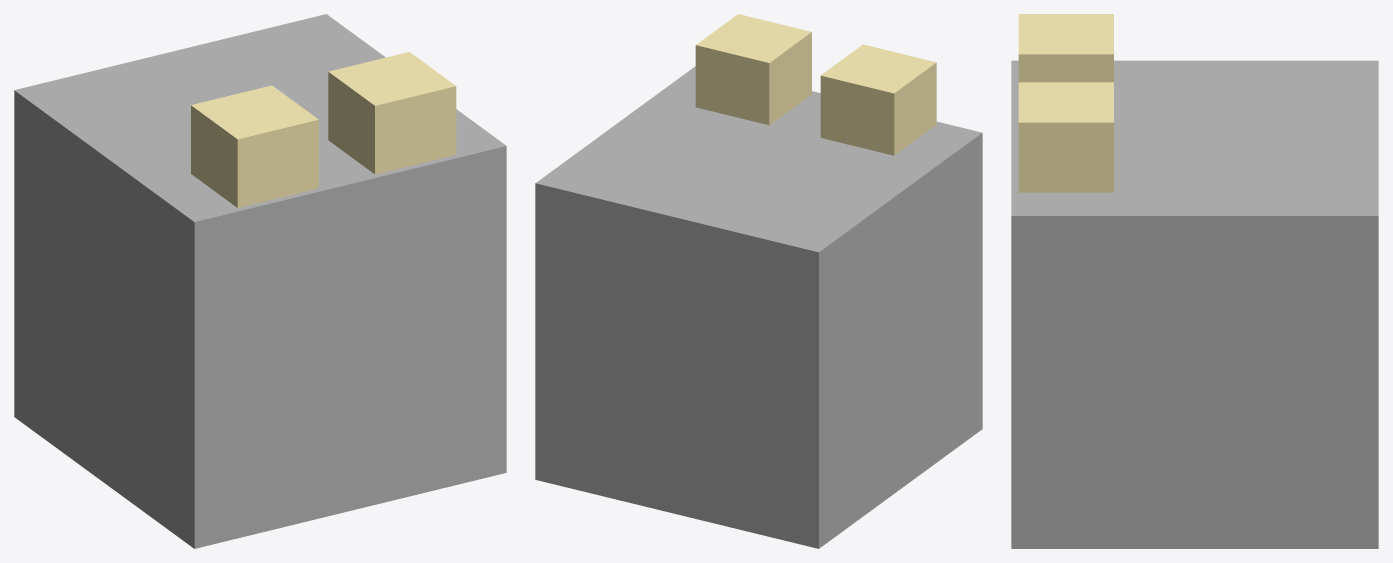
Rendered from demo_eqp.gltf.
3 renders of one model, left to right at view 1: azimuth 30°, elevation 25°; view 2: azimuth 150°, elevation 25°; view 3: azimuth 270°, elevation 25°, orthographic. The views are drawn at different scales.
Parts seen in each view (by area): view 1: Body, Port_2, Port_1; view 2: Body, Port_1, Port_2; view 3: Body, Port_2, Port_1.
Part boxes in pixels (bbox=[...]): Body: bbox=[14, 14, 506, 548]; Port_2: bbox=[328, 52, 456, 174]; Port_1: bbox=[191, 85, 318, 207]; Body: bbox=[535, 66, 982, 548]; Port_1: bbox=[820, 44, 936, 155]; Port_2: bbox=[695, 14, 811, 125]; Body: bbox=[1011, 60, 1378, 548]; Port_2: bbox=[1018, 82, 1113, 192]; Port_1: bbox=[1018, 14, 1113, 82].
Size of the model in its own units: 1 by 1.21 by 1.
